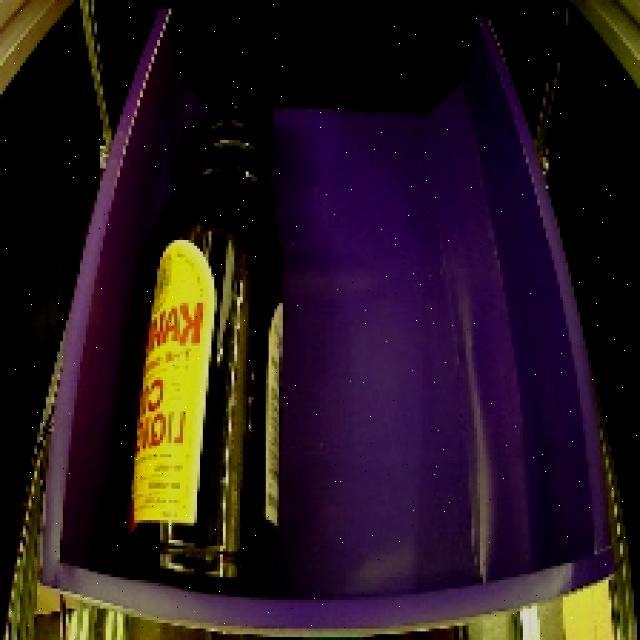plastic: (119, 57, 308, 599)
